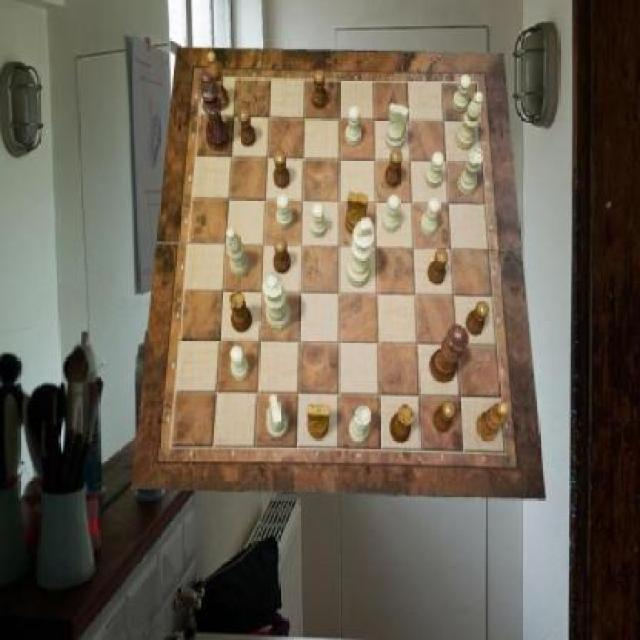bishop: (208, 52, 230, 112), (477, 403, 509, 443)
black-bishop: (200, 71, 231, 152)
black-king: (344, 191, 368, 236), (308, 404, 330, 440)
black-knight: (466, 300, 490, 336), (434, 398, 457, 432), (428, 250, 448, 286), (385, 149, 402, 188), (274, 151, 291, 189), (239, 108, 256, 146), (312, 71, 328, 111), (274, 239, 291, 273)
black-pawn: (429, 326, 469, 385)
black-queen: (230, 291, 252, 333), (391, 404, 414, 444)
black-rook: (455, 91, 483, 149), (226, 228, 250, 277)
white-bishop: (346, 218, 376, 288)
white-king: (386, 103, 409, 151), (266, 394, 289, 438)
white-knight: (452, 75, 472, 114), (420, 199, 440, 236), (424, 152, 444, 188), (346, 106, 363, 146), (382, 195, 399, 233), (230, 346, 248, 381), (310, 203, 328, 238), (277, 194, 294, 228)
white-pawn: (262, 271, 292, 329)
white-queen: (457, 150, 483, 196), (350, 405, 372, 442)
